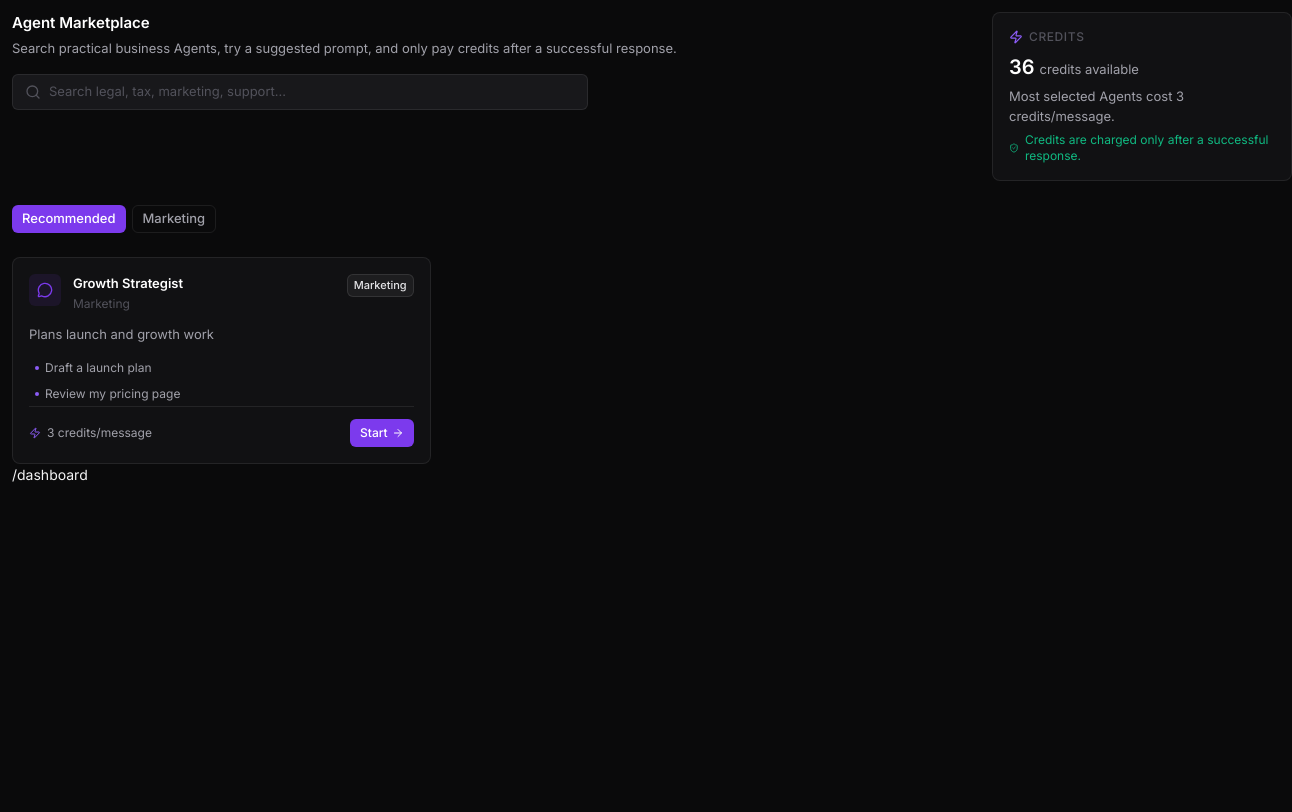
Test: DashboardPage › shows "No Agents match your search" with Clear filters action when all agents are filtered out
The width and height of the screenshot is (1292, 812).
Expected: the heading "Growth Strategist" is shown, [73,274,183,294]
In the search field named "Search Agents": (312, 92) [49,82,575,102], type "xyznonexistent"
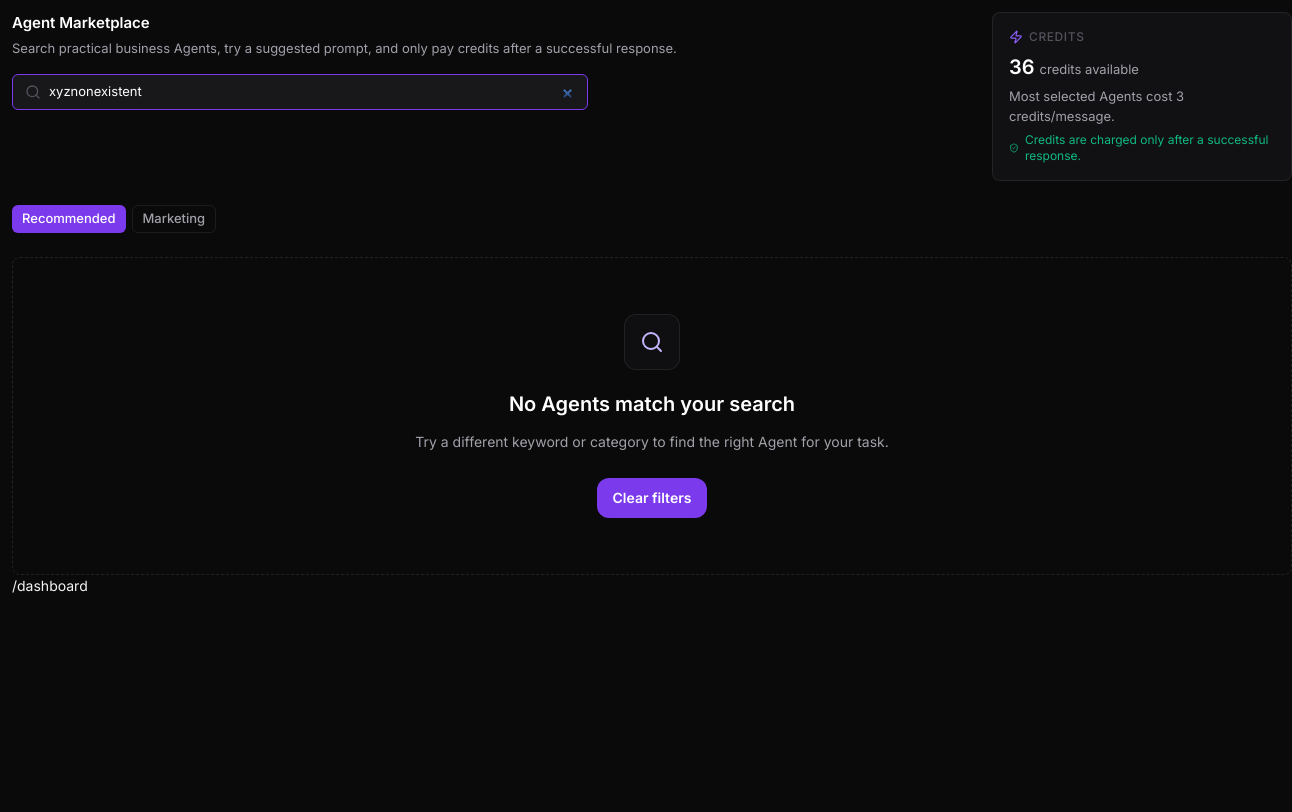
Expected: the heading "No Agents match your search" is shown, [509,392,795,416]
Expected: the button "Clear filters" is shown
Click the button "Clear filters": click(652, 498) [596,478,707,518]
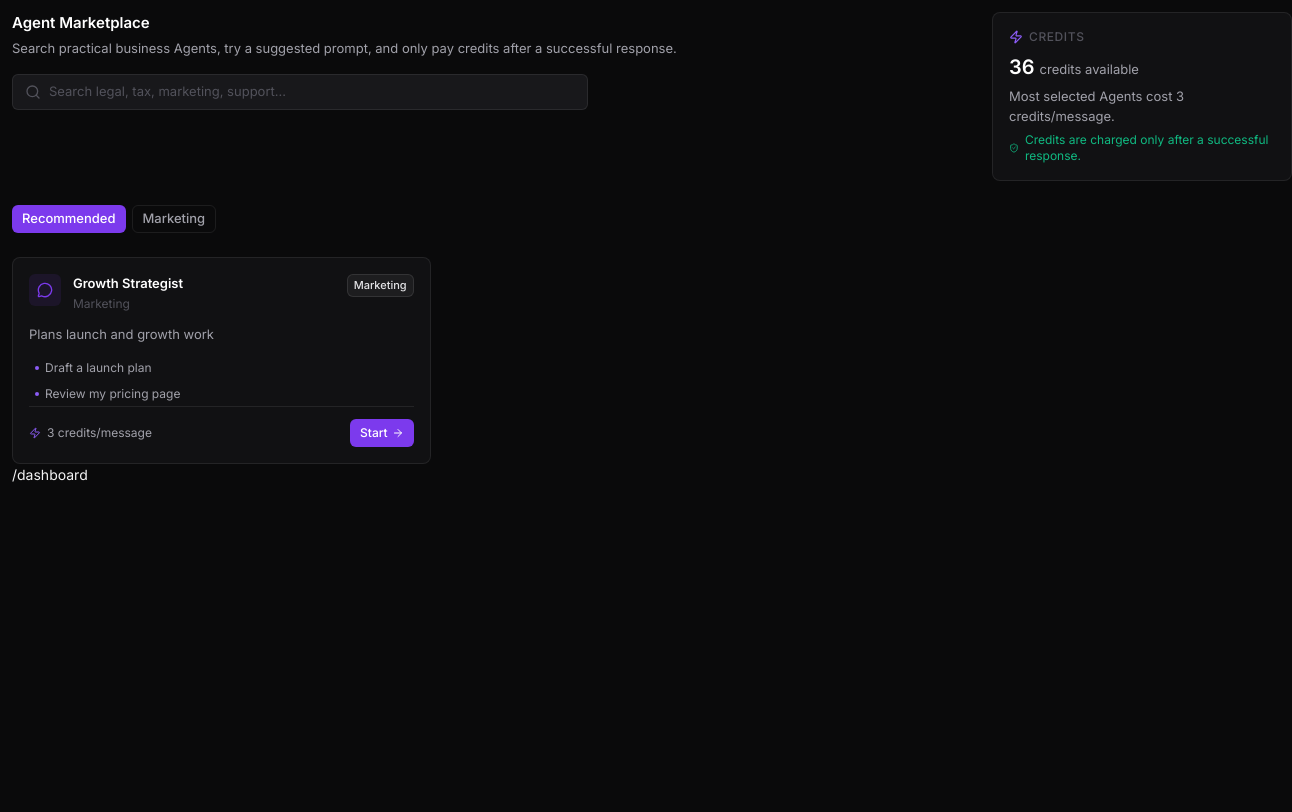
Expected: the heading "Growth Strategist" is shown, [73,274,183,294]
Expected: the heading "No Agents match your search" is gone
